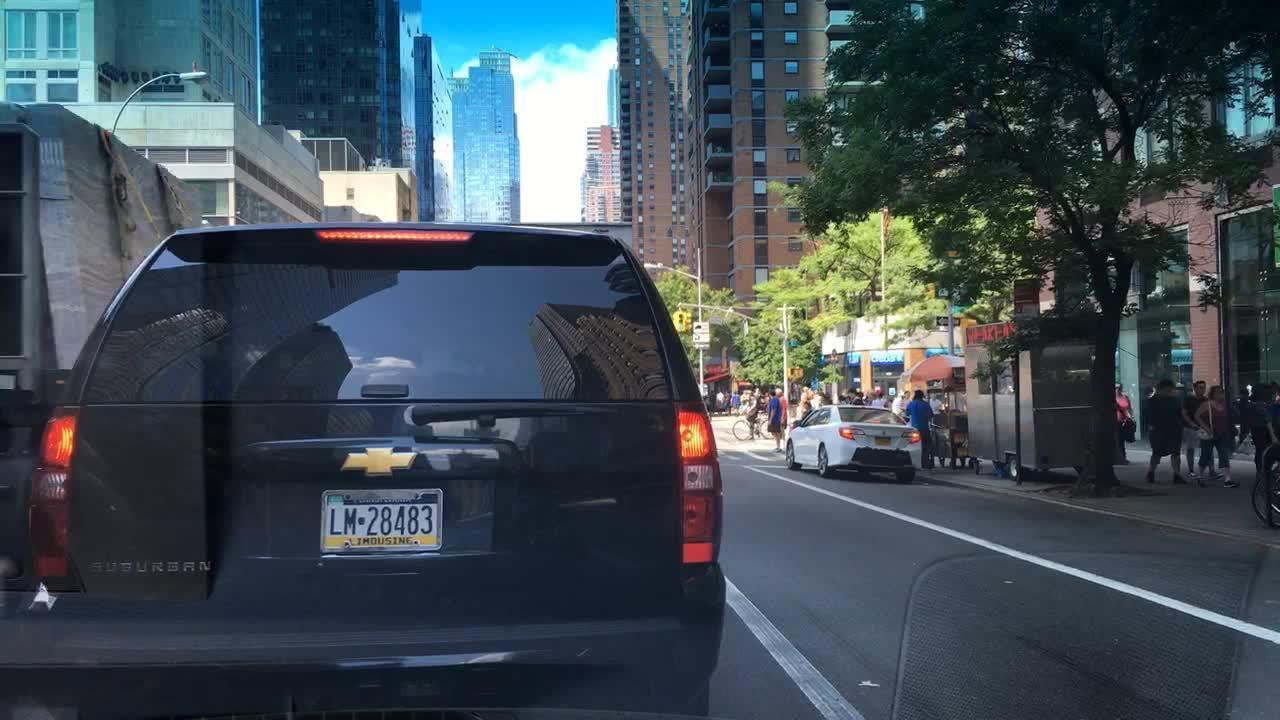chevrolet: (316, 428, 440, 492)
